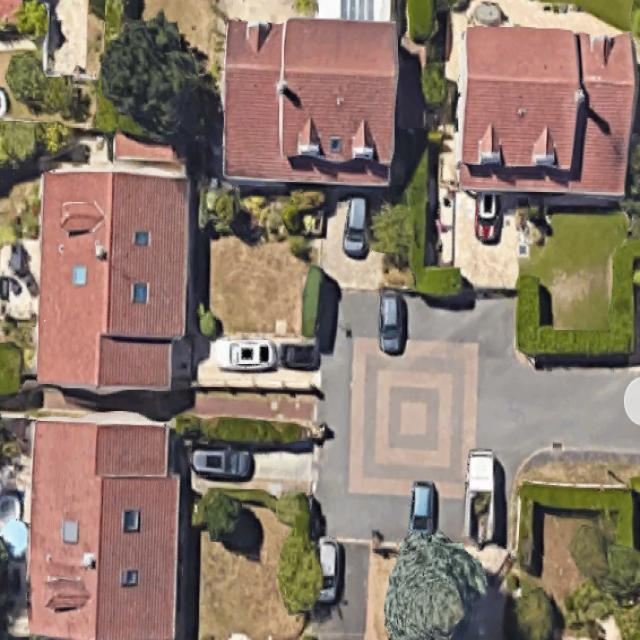maison: (452, 27, 640, 207), (29, 421, 180, 639), (37, 169, 186, 389), (223, 21, 397, 187)
